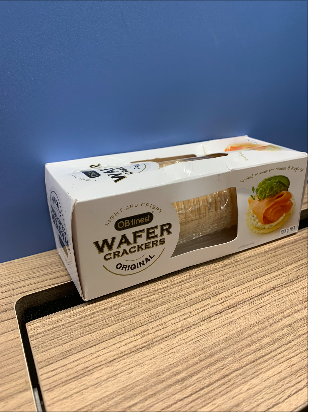Crackers_100-199g: (79, 169, 298, 243)
